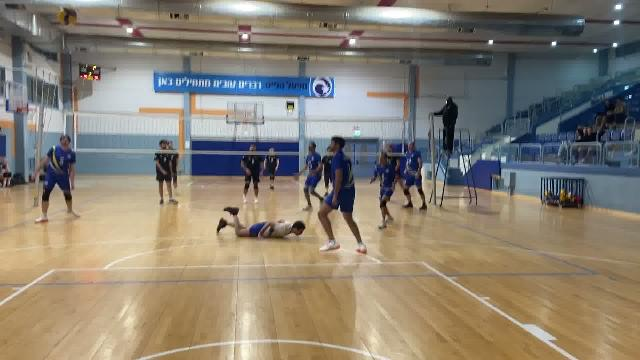ball: (54, 2, 81, 30)
